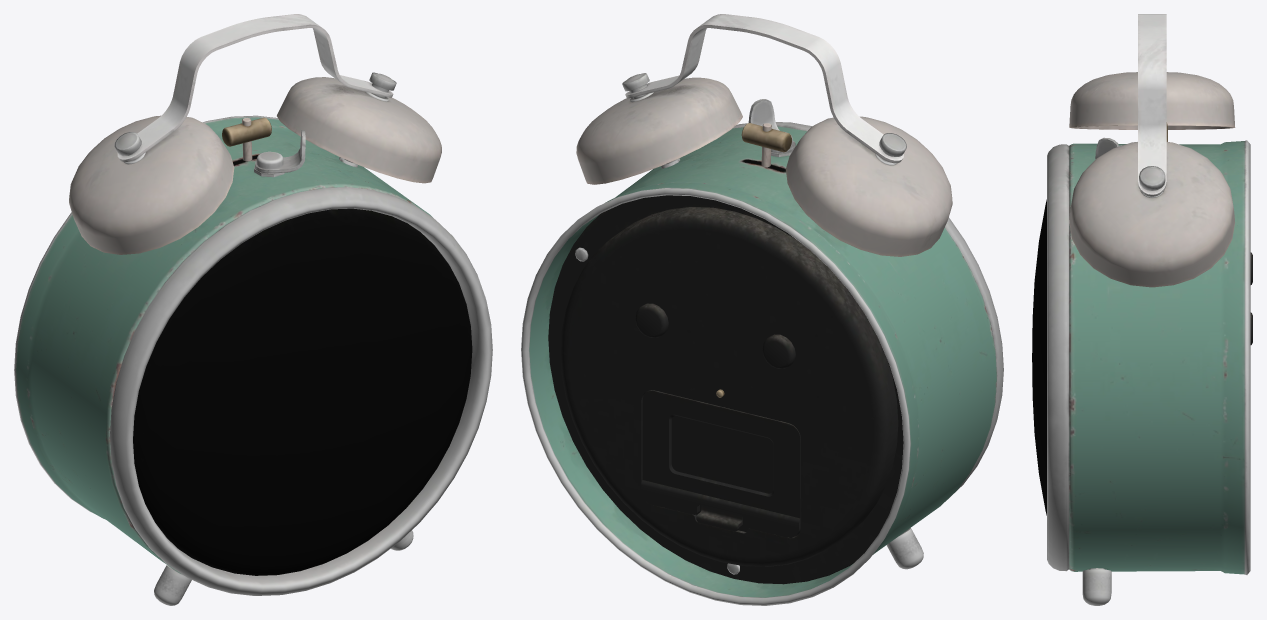
The model's file is alarm-clock.glb.
3 renders of one model, left to right at view 1: azimuth 30°, elevation 25°; view 2: azimuth 150°, elevation 25°; view 3: azimuth 270°, elevation 25°, orthographic. The views are drawn at different scales.
Visible parts, largest first — view 1: alarm_clock_01; view 2: alarm_clock_01; view 3: alarm_clock_01.
Boxes of the visible parts, left/top/right/bottom form: alarm_clock_01: left=14, top=14, right=492, bottom=605; alarm_clock_01: left=521, top=14, right=1003, bottom=605; alarm_clock_01: left=1032, top=14, right=1252, bottom=605.
Size of the model in its own units: 0.1317 by 0.1742 by 0.0667.
Materials: 2 (2 with a texture image).
